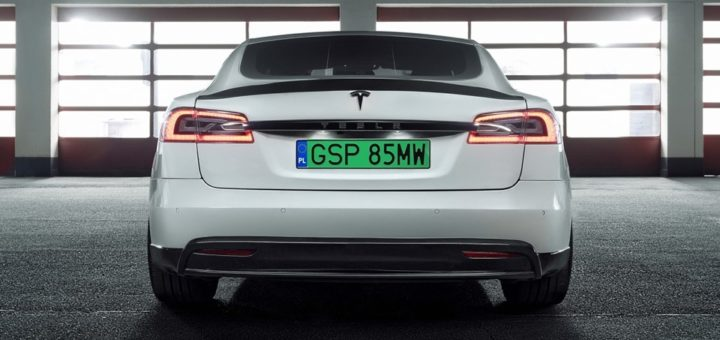tablica: (296, 140, 430, 168)
